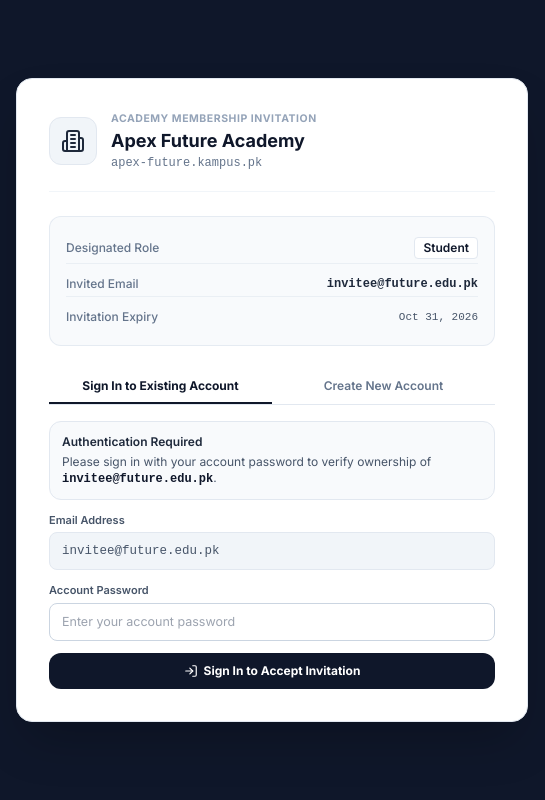
Scenario: Phase 5 Rendered Component Flows: C01-C03, B04, B05, B07 › C03: Unauthenticated invitation view renders dual tabs (Sign In & Create New Account)
The width and height of the screenshot is (545, 800).
Click the button "Create New Account" at coordinates (384, 387), box [272,370,495,404]
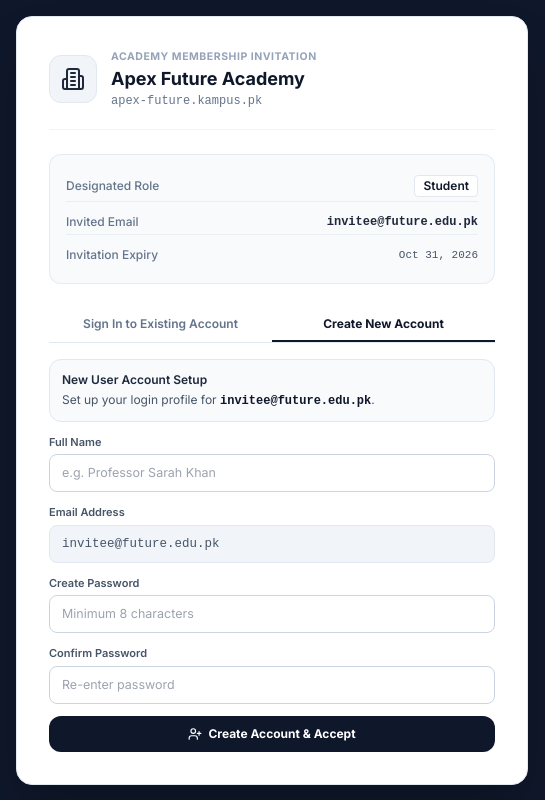
Expected: the field with placeholder "e.g. Professor Sarah Khan" is shown, [49,454,495,492]
Result: the text "Full Name" is shown at [49,435,102,449]
